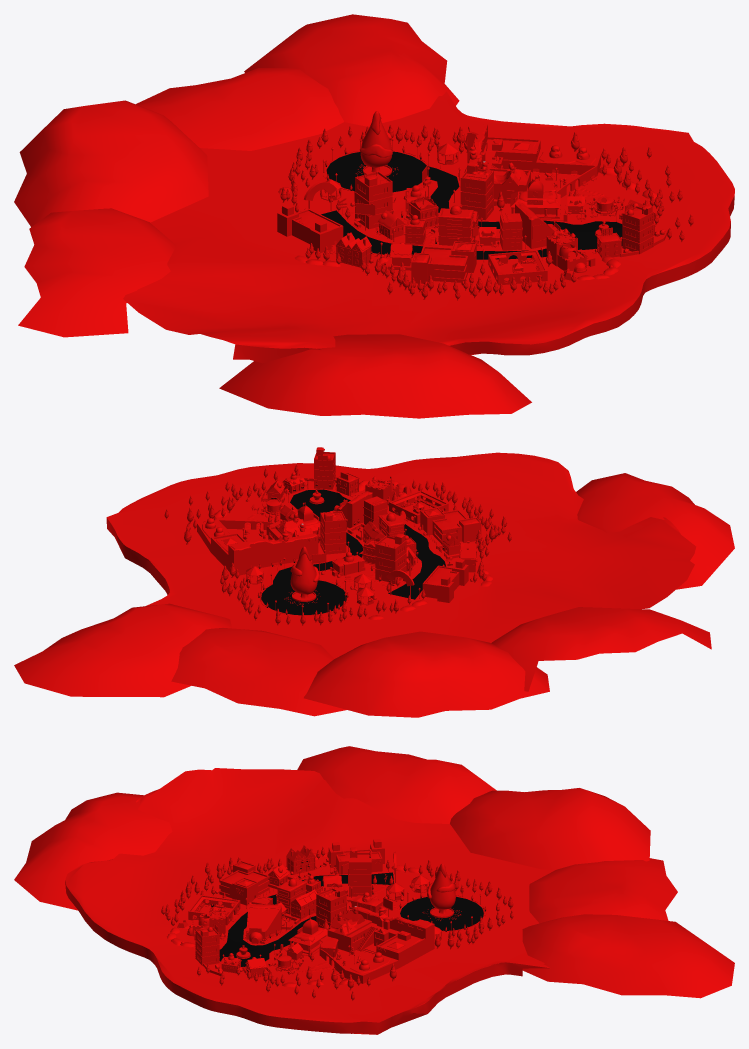
File: Individual_PenguPlaza_02.glb
3 renders of one model, top to bottom at view 1: azimuth 30°, elevation 25°; view 2: azimuth 150°, elevation 25°; view 3: azimuth 270°, elevation 25°, orthographic. The views are drawn at different scales.
Visible parts, largest first — view 1: pasted__pasted__Berg, pasted__SnowPatch17, pasted__SnowPatch23, pasted__SnowPatch22, pasted__SnowPatch25, pasted__SnowPatch24, polySurface81, pasted__pCube144, pasted__pCube153, pasted__polySurface218, pasted__pCube61, pasted__pCube60 (+9 smaller); view 2: pasted__pasted__Berg, pasted__SnowPatch23, pasted__SnowPatch25, pasted__SnowPatch24, pasted__SnowPatch22, pasted__SnowPatch17, polySurface81, pasted__pCube144, pasted__pCube60, pasted__pCube153, pasted__pCube61, pasted__polySurface218 (+6 smaller); view 3: pasted__pasted__Berg, pasted__SnowPatch25, pasted__SnowPatch23, pasted__SnowPatch22, pasted__SnowPatch17, pasted__SnowPatch24, polySurface81, pasted__polySurface218, pasted__pCube144, pasted__pCube55, pasted__pCube60, pasted__pCube61 (+8 smaller).
Boxes of the visible parts, x1,y1,x2,y2 form: pasted__pasted__Berg: (123, 91, 734, 363); pasted__SnowPatch17: (219, 334, 531, 418); pasted__SnowPatch23: (14, 100, 208, 226); pasted__SnowPatch22: (18, 208, 176, 337); pasted__SnowPatch25: (244, 14, 459, 126); pasted__SnowPatch24: (136, 68, 343, 150); polySurface81: (467, 123, 600, 203); pasted__pCube144: (411, 241, 476, 283); pasted__pCube153: (277, 204, 343, 252); pasted__polySurface218: (464, 124, 596, 191); pasted__pCube61: (460, 162, 493, 220); pasted__pCube60: (355, 171, 392, 229); pasted__pasted__Berg: (106, 452, 696, 658); pasted__SnowPatch23: (304, 631, 549, 717); pasted__SnowPatch25: (14, 603, 231, 697); pasted__SnowPatch24: (171, 628, 346, 716); pasted__SnowPatch22: (491, 607, 711, 691); pasted__SnowPatch17: (576, 473, 734, 589); polySurface81: (197, 519, 318, 576); pasted__pCube144: (420, 507, 481, 544); pasted__pCube60: (375, 535, 406, 583); pasted__pCube153: (422, 559, 468, 602); pasted__pCube61: (320, 511, 346, 554); pasted__polySurface218: (202, 519, 317, 552); pasted__pasted__Berg: (65, 768, 554, 1034); pasted__SnowPatch25: (522, 914, 734, 998); pasted__SnowPatch23: (450, 788, 650, 869); pasted__SnowPatch22: (297, 746, 496, 823); pasted__SnowPatch17: (14, 792, 172, 910); pasted__SnowPatch24: (529, 858, 677, 923); polySurface81: (319, 908, 434, 983); pasted__polySurface218: (319, 906, 431, 973); pasted__pCube144: (219, 861, 269, 905); pasted__pCube55: (246, 904, 281, 939); pasted__pCube60: (349, 847, 371, 896); pasted__pCube61: (316, 888, 346, 929).
Bounding box in the file's own units: 190 × 28.36 × 207.
